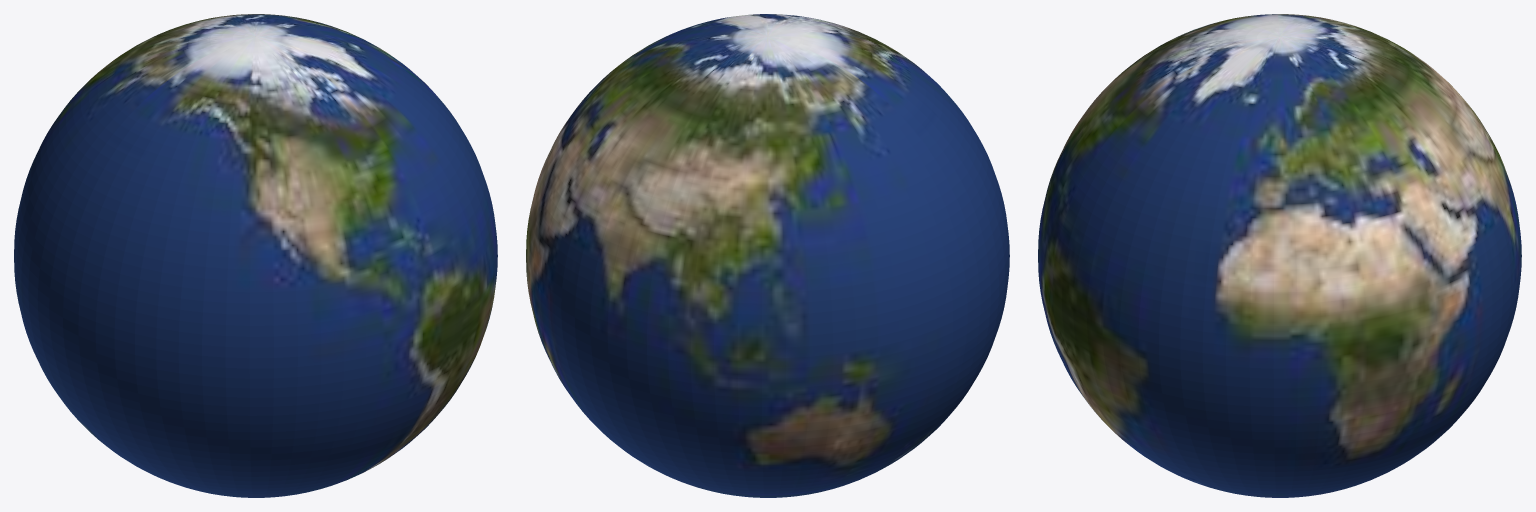
Rendered from earth.glb.
3 renders of one model, left to right at view 1: azimuth 30°, elevation 25°; view 2: azimuth 150°, elevation 25°; view 3: azimuth 270°, elevation 25°, orthographic.
Parts seen in each view (by area): view 1: Sphere; view 2: Sphere; view 3: Sphere.
Part boxes in pixels (x1,y1,x2,y2): Sphere: (14,14,497,497); Sphere: (526,14,1009,497); Sphere: (1038,14,1521,497).
Bounding box in the file's own units: 2 × 2 × 2.
1 material, 1 textured.
